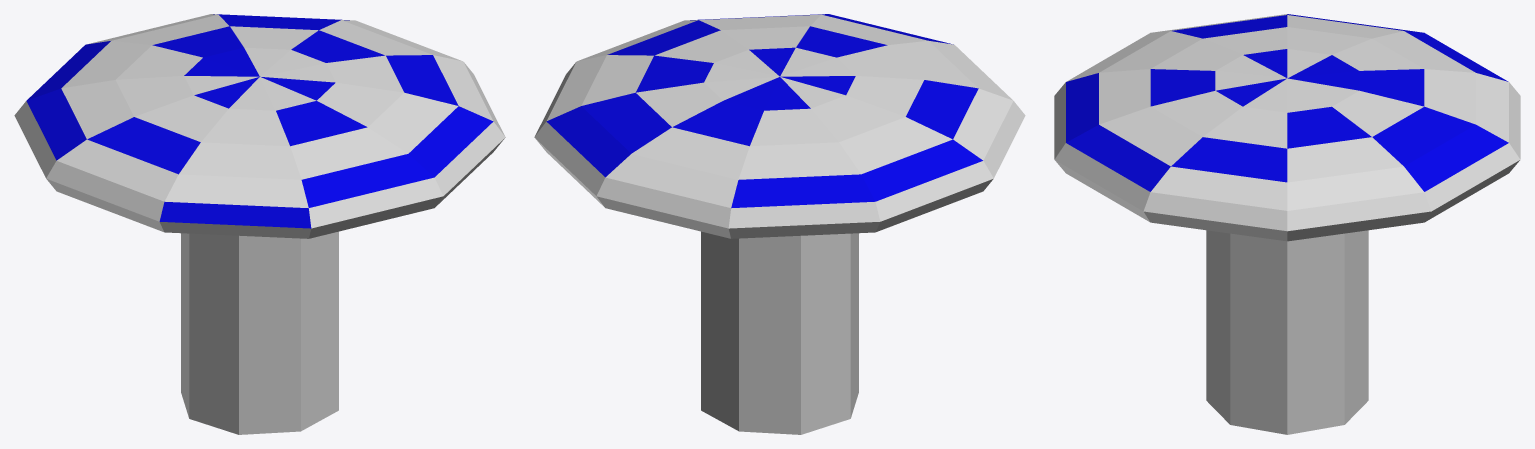
Rendered from BlueMush.fbx.
3 renders of one model, left to right at view 1: azimuth 30°, elevation 25°; view 2: azimuth 150°, elevation 25°; view 3: azimuth 270°, elevation 25°, orthographic.
Visible parts, largest first — view 1: pSphere1, pCylinder1; view 2: pSphere1, pCylinder1; view 3: pSphere1, pCylinder1.
Boxes of the visible parts, bbox=[...] form: pSphere1: bbox=[14, 14, 505, 238]; pCylinder1: bbox=[181, 231, 338, 434]; pSphere1: bbox=[534, 14, 1025, 238]; pCylinder1: bbox=[701, 231, 858, 434]; pSphere1: bbox=[1054, 14, 1520, 241]; pCylinder1: bbox=[1206, 230, 1368, 434].
Bounding box in the file's own units: 3.42 × 2.48 × 3.25.
